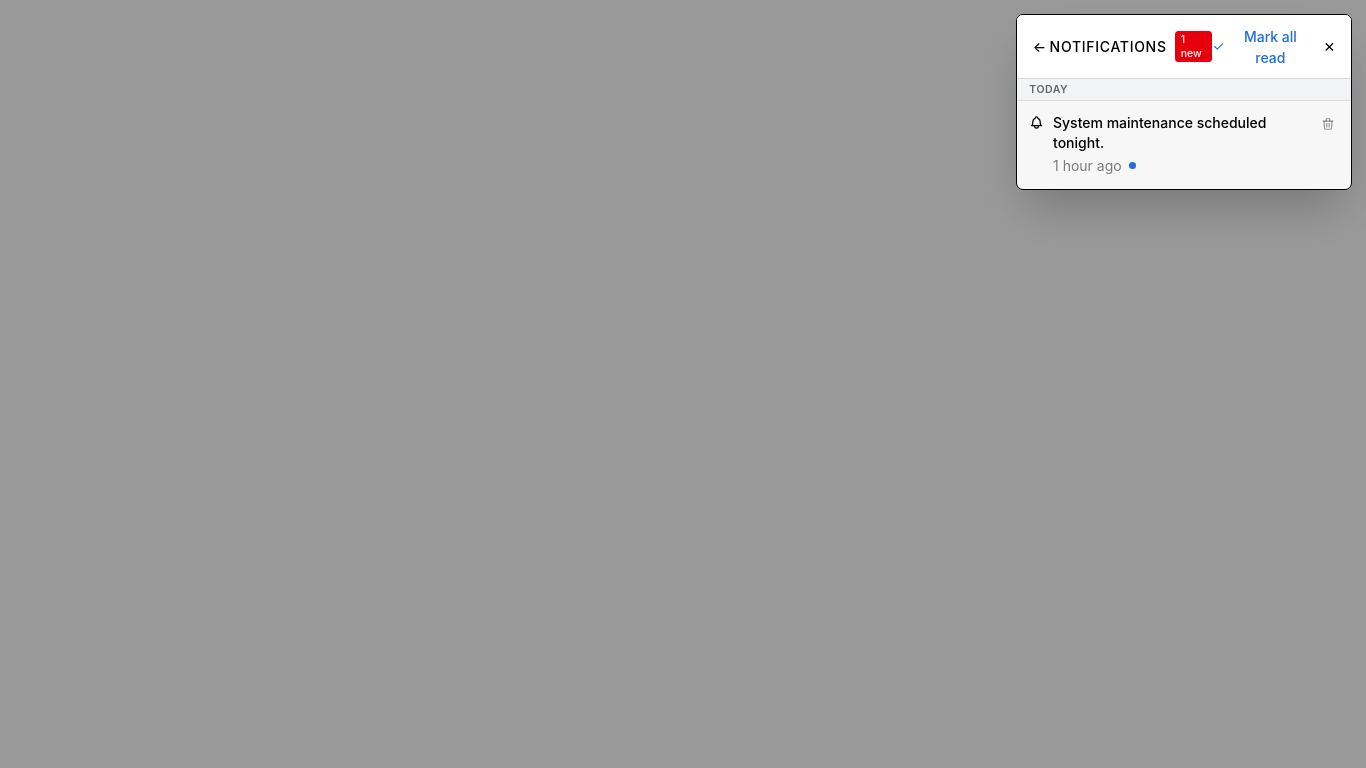
Test: NotificationCenter Component › allows user to delete a notification
Expected: the text "System maintenance scheduled tonight." is shown, [1053,114,1266,151]
Click the button titled "delete notification".
click(1328, 124)  # box [1318,113,1339,134]
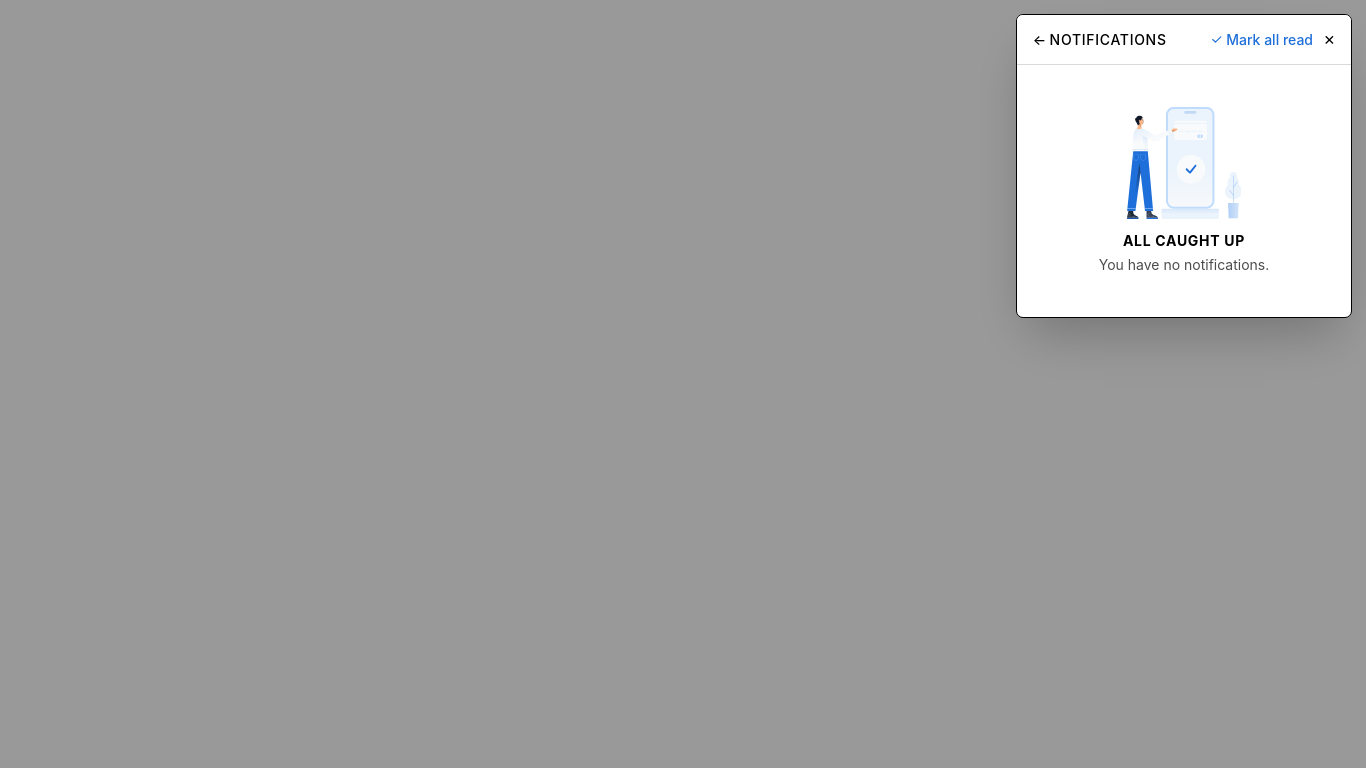
Expected: the text "System maintenance scheduled tonight." is gone
